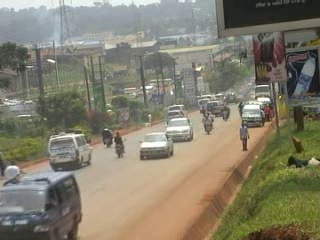Car: (137, 129, 175, 162), (163, 115, 196, 143), (164, 107, 187, 126), (204, 98, 225, 115)
Motorcycle: (2, 160, 29, 184), (114, 129, 127, 162), (200, 111, 215, 136), (100, 124, 114, 150), (220, 103, 231, 122)
